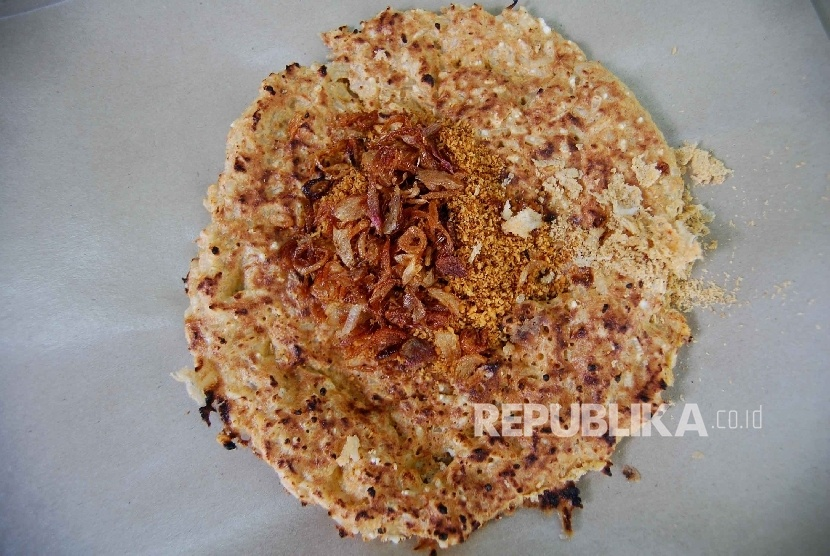kerak_telor: (186, 11, 707, 543)
